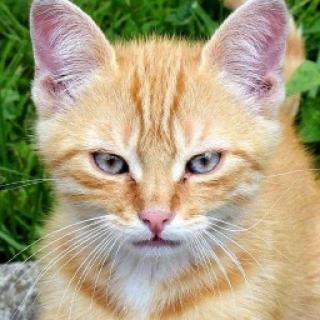cat: (22, 2, 297, 264)
nose: (129, 178, 185, 238)
